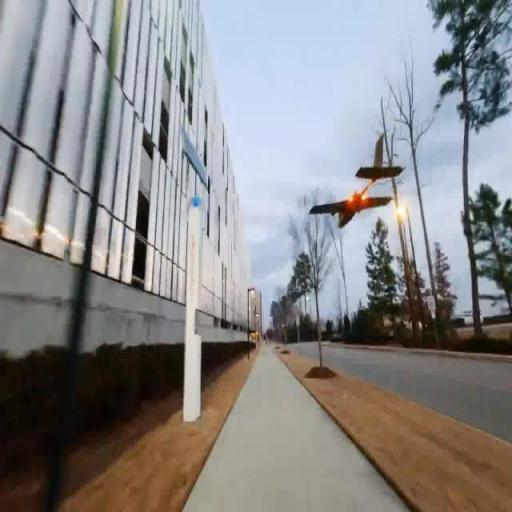uav: (304, 138, 410, 248)
